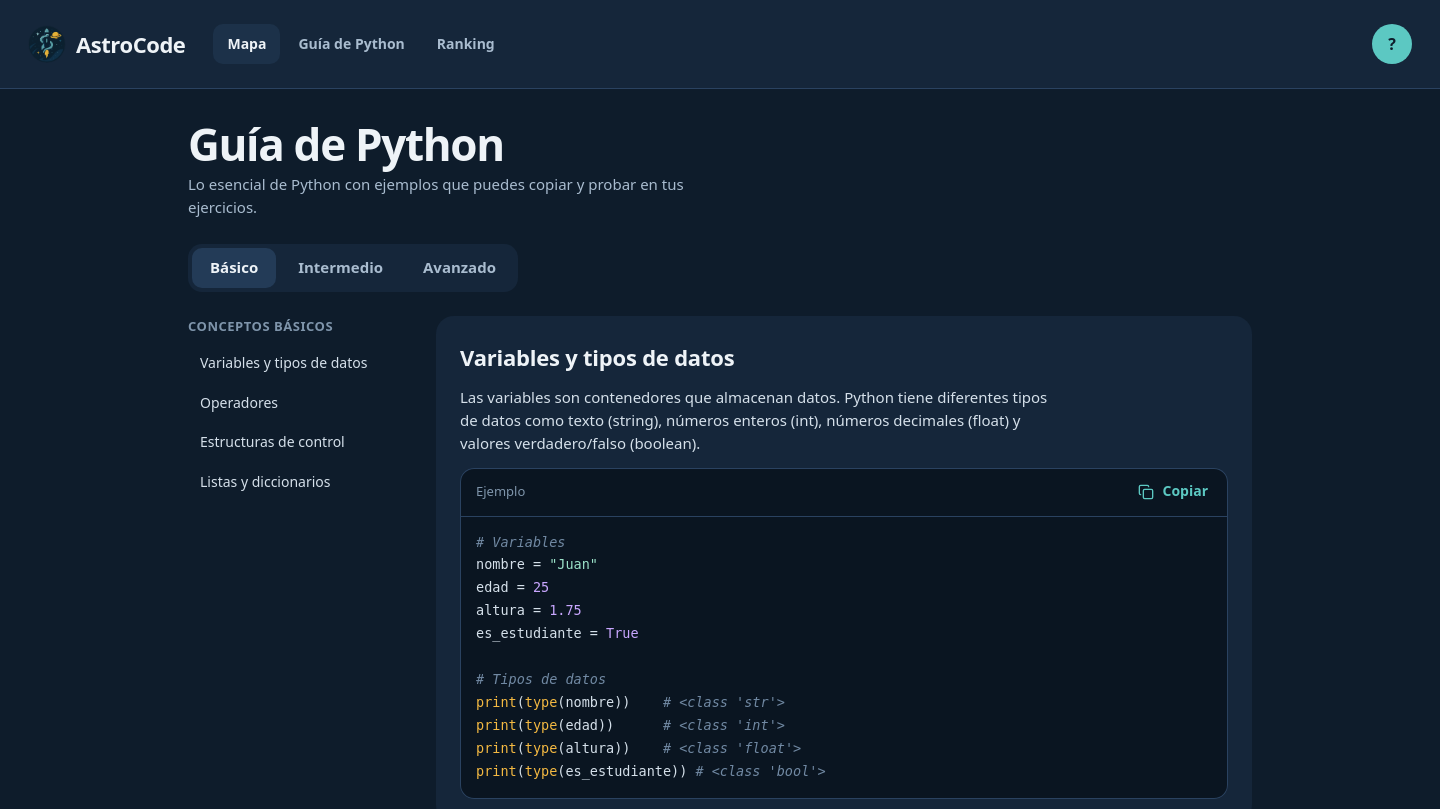
Test: las pestañas cambian de nivel y el índice enlaza a cada concepto
Expected: the heading "Variables y tipos de datos" is shown, top-left (460, 342), bottom-right (734, 372)
Click the tab "Avanzado": click(460, 268) top-left (405, 248), bottom-right (514, 288)
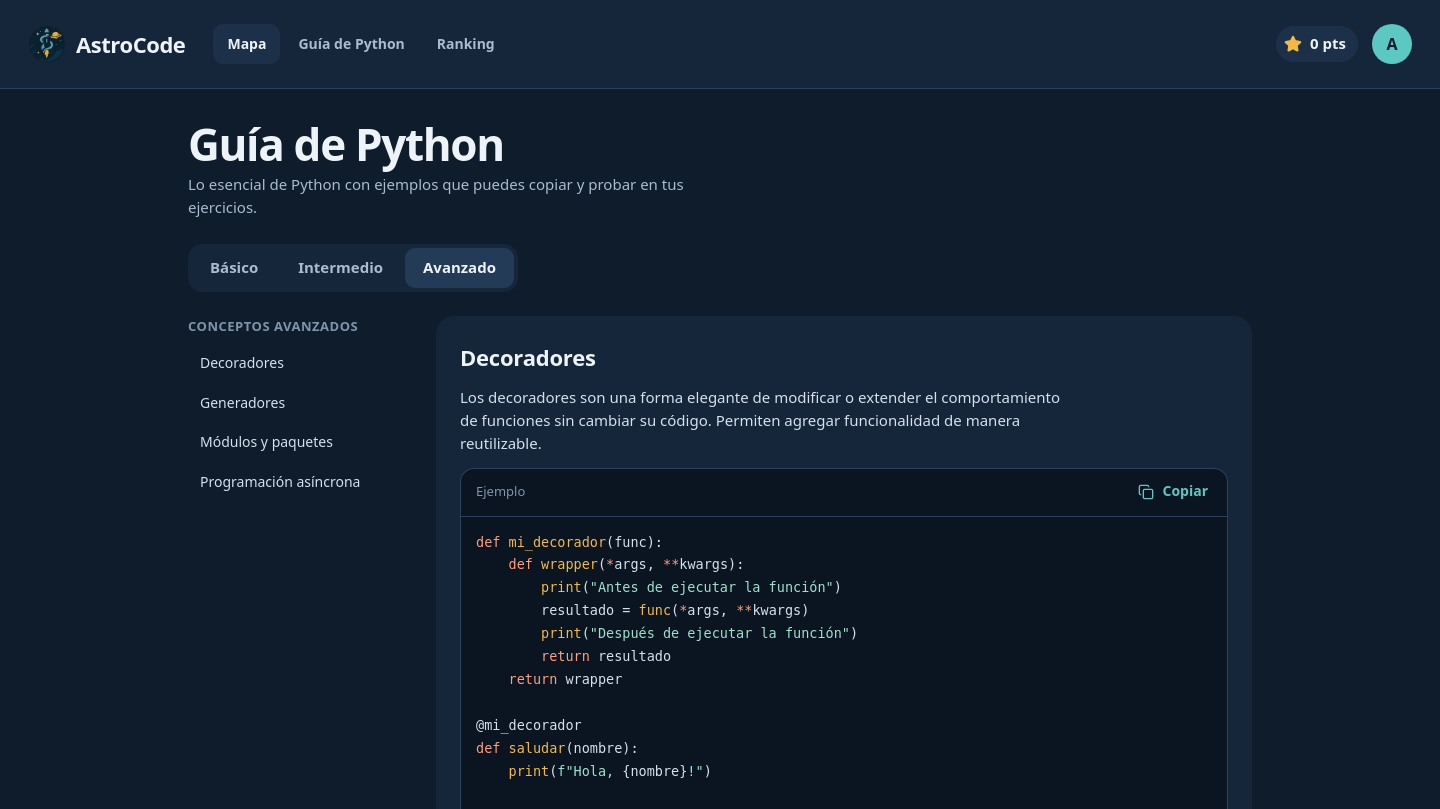
Expected: the 1st text "def" is shown, top-left (476, 534), bottom-right (500, 550)
